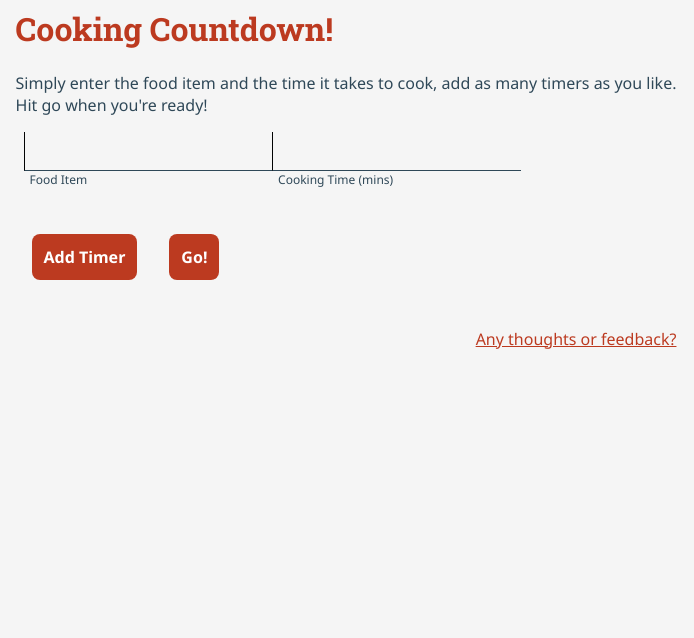
Test case: <App /> › renders the instruction correct if things start at the same time
Click the button "Add Timer" at (84, 257), box [32,234,137,280]
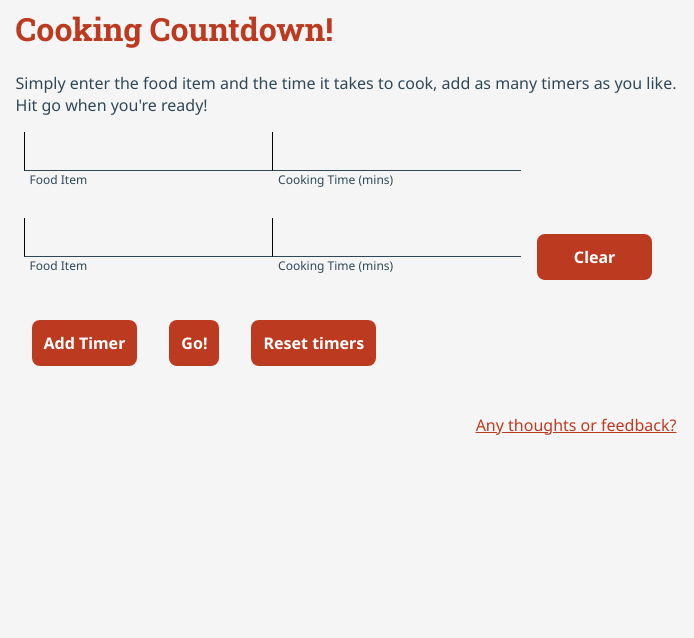
Type "Food A" into the 1st field labelled "Food Item" at (148, 151), box [24,132,272,171]
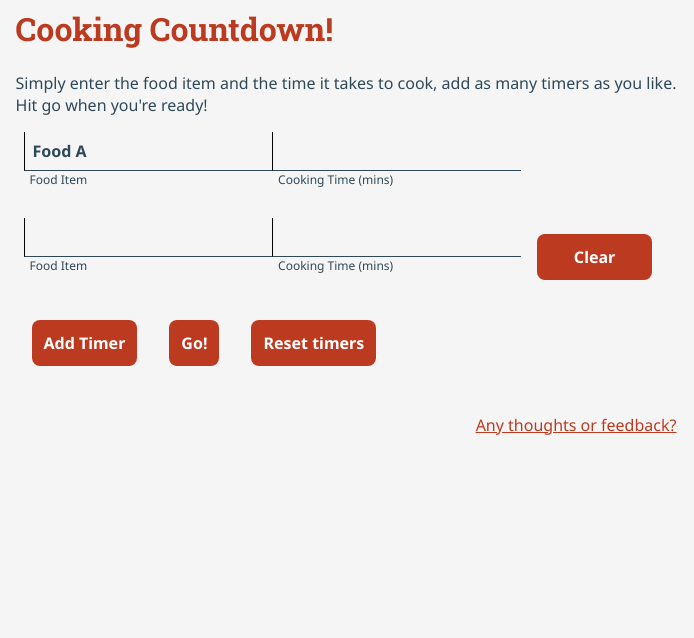
Type "Food B" into the 2nd field labelled "Food Item" at (148, 237), box [24,218,272,257]
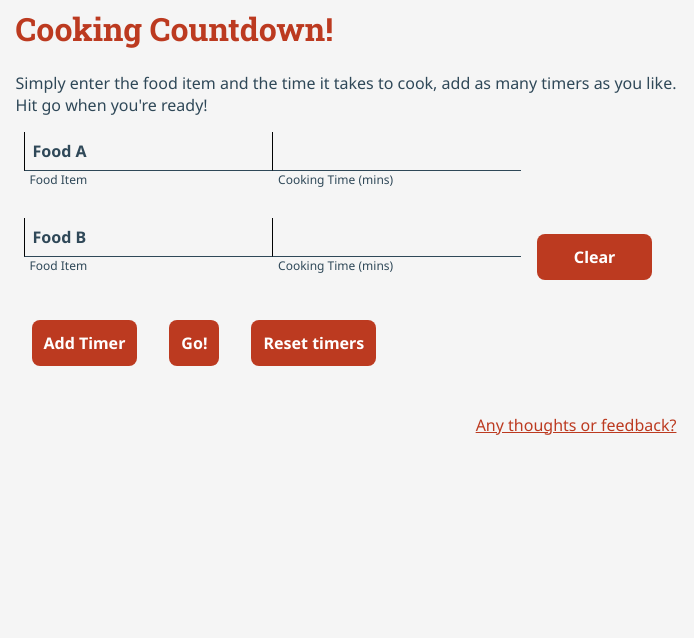
Type "10" into the 1st number field labelled "Cooking Time (mins)" at (396, 151), box [272,132,521,171]
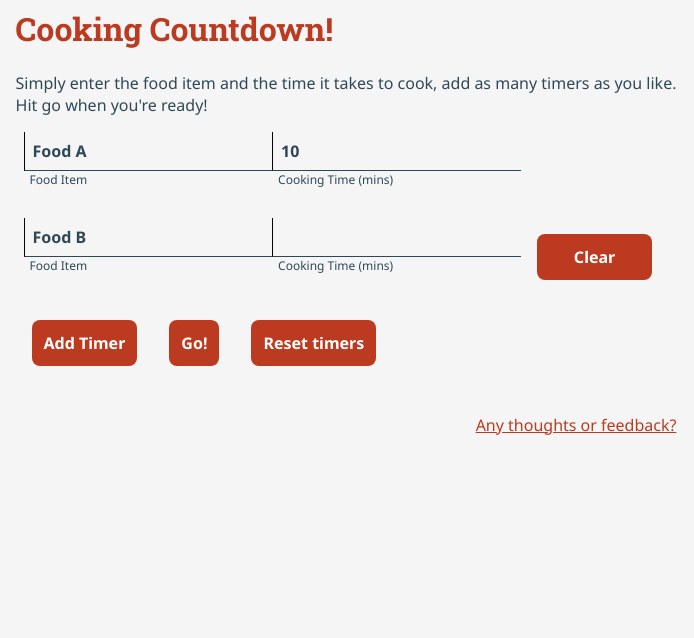
Type "10" into the 2nd number field labelled "Cooking Time (mins)" at (396, 237), box [272,218,521,257]
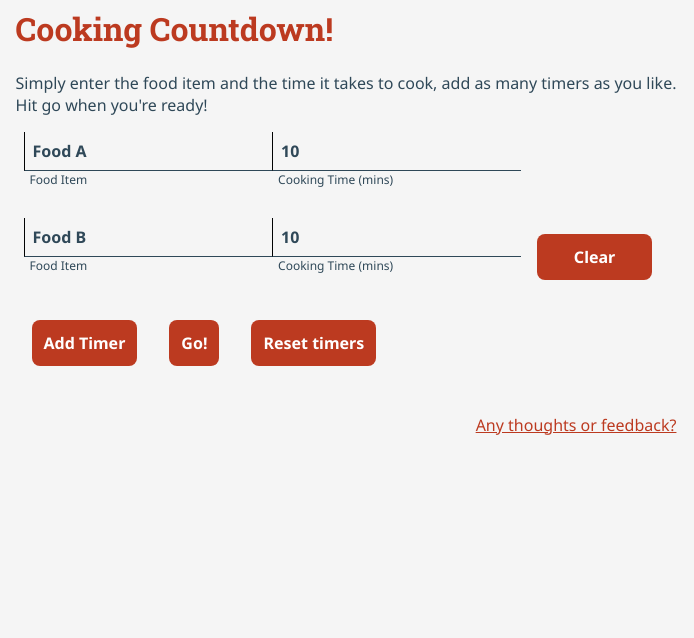
Click the button "Go!" at (194, 343), box [169,320,219,366]
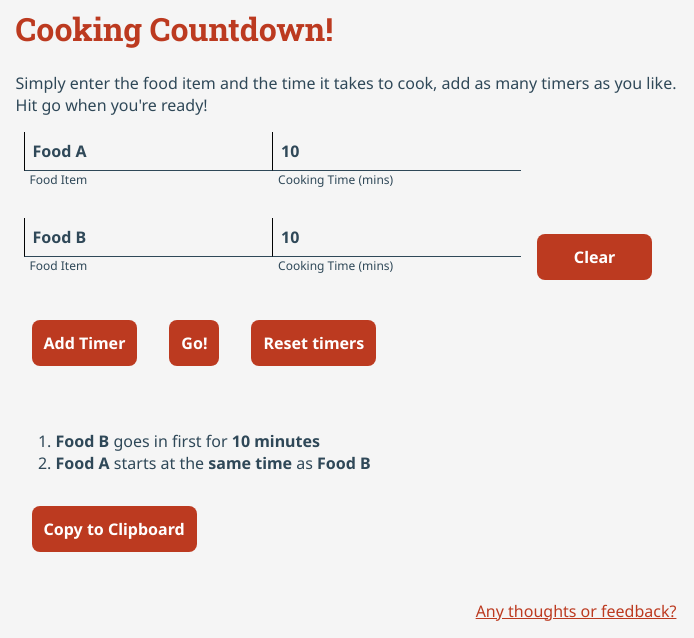
Expected: the number of list items is 2, [56,430,320,452]; [56,452,371,474]
Expected: the list item "Food B goes in first for 10 minutes" is shown, [56,430,320,452]
Expected: the list item "Food A starts at the same time as Food B" is shown, [56,452,371,474]
